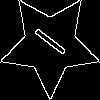I: (25, 19, 68, 58)
